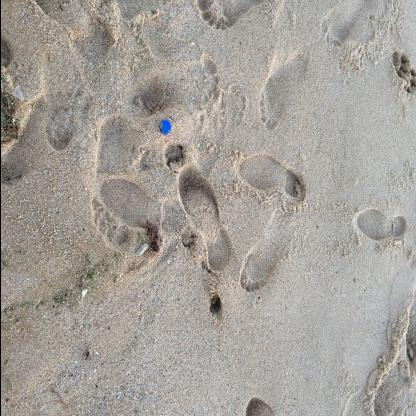plastik: (158, 119, 170, 135)
